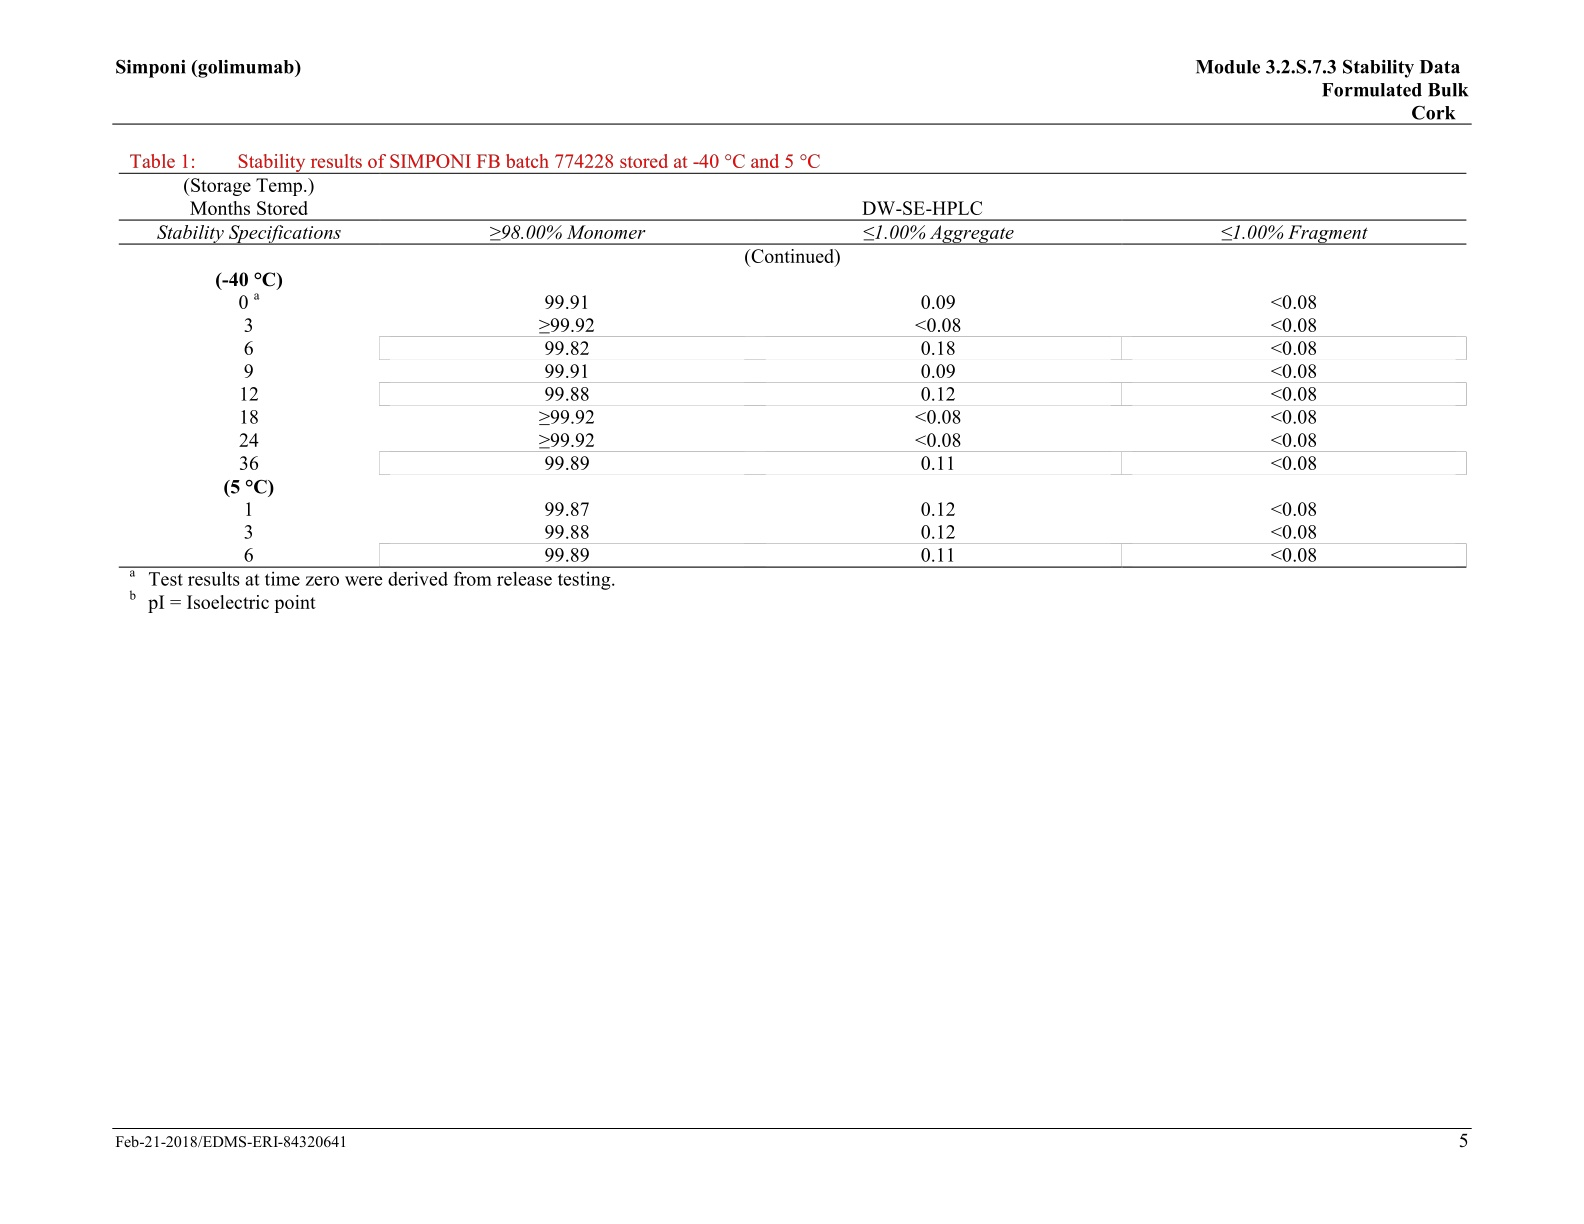partial_lined_merged_cells: (117, 170, 1470, 570)
